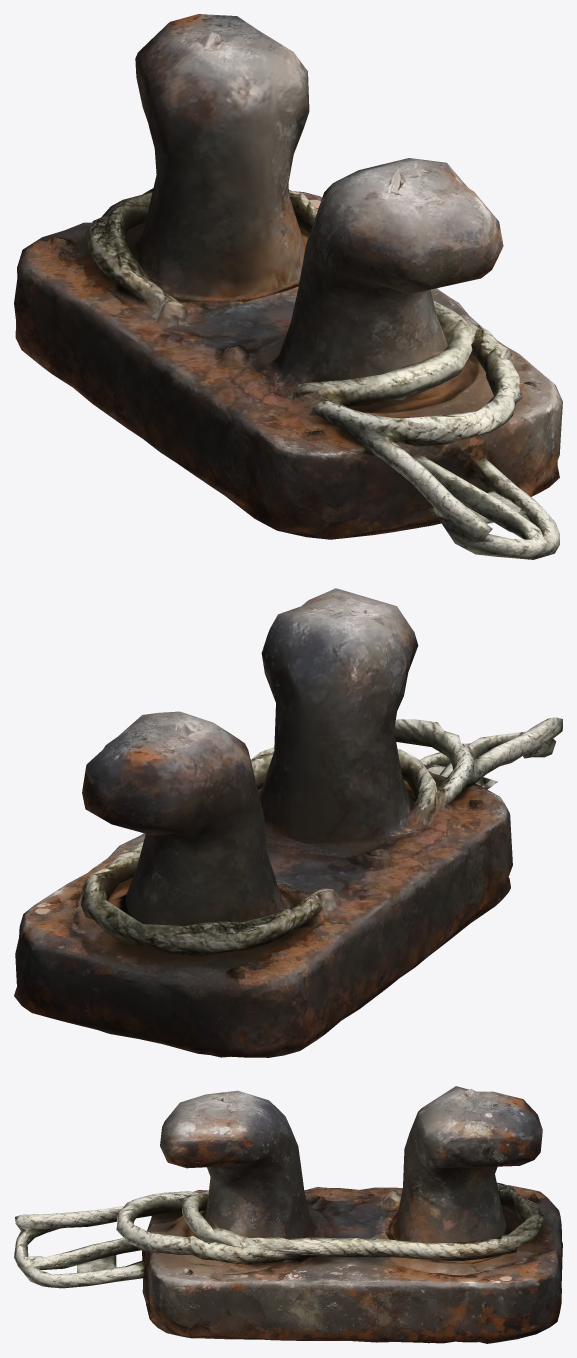
File: pt_bollard.glb
3 renders of one model, top to bottom at view 1: azimuth 30°, elevation 25°; view 2: azimuth 150°, elevation 25°; view 3: azimuth 270°, elevation 25°, orthographic. The views are drawn at different scales.
Parts seen in each view (by area): view 1: tripo_node_cd47abf7-52d7-4c38-b406-d6e0c09e8790; view 2: tripo_node_cd47abf7-52d7-4c38-b406-d6e0c09e8790; view 3: tripo_node_cd47abf7-52d7-4c38-b406-d6e0c09e8790.
Part boxes in pixels (<box>): tripo_node_cd47abf7-52d7-4c38-b406-d6e0c09e8790: <box>14,14,562,559</box>; tripo_node_cd47abf7-52d7-4c38-b406-d6e0c09e8790: <box>14,588,562,1057</box>; tripo_node_cd47abf7-52d7-4c38-b406-d6e0c09e8790: <box>14,1086,562,1343</box>.
Bounding box in the file's own units: 0.4402 × 0.421 × 1.
Materials: 1 (1 with a texture image).
